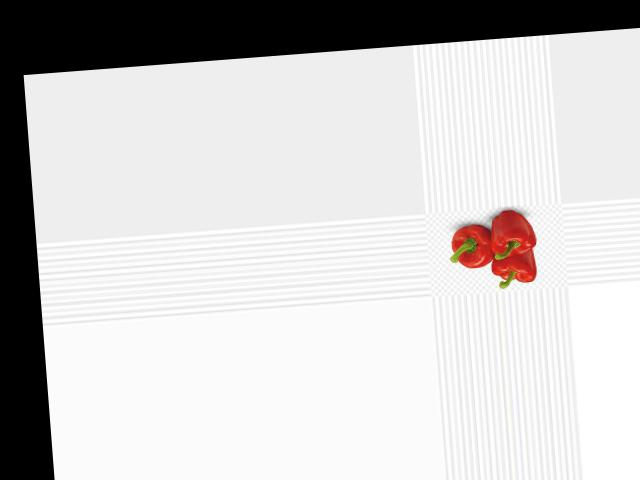bell_pepper: (444, 218, 500, 275)
